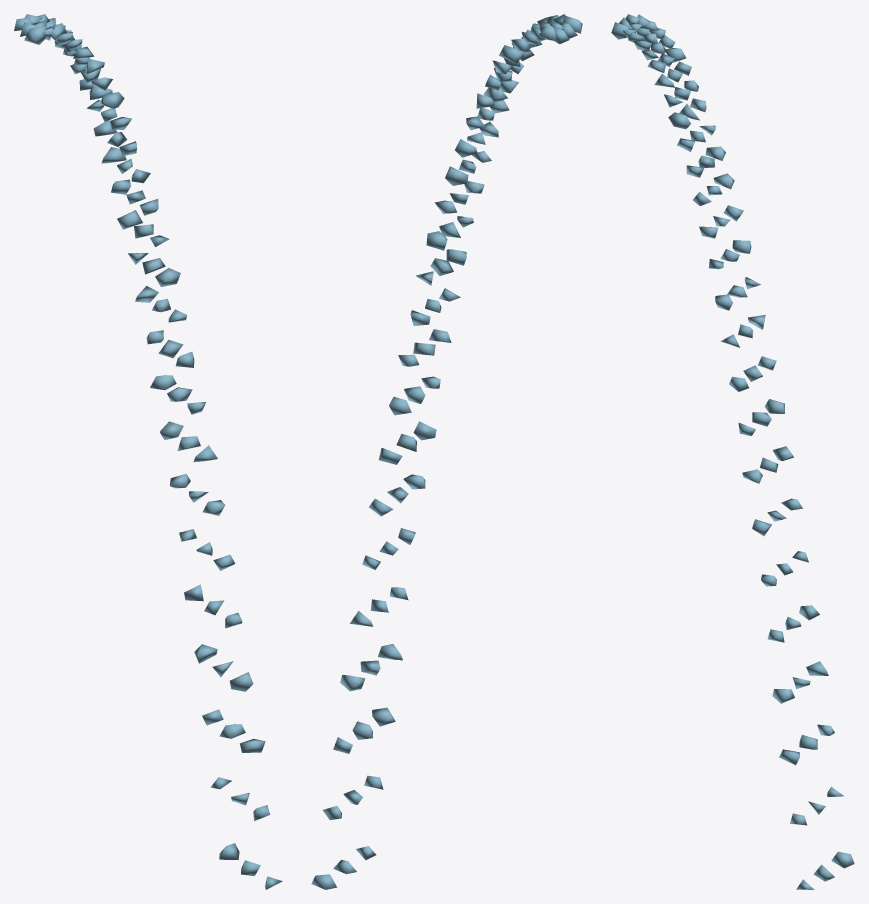
File: dong_nuoc.glb
The picture shows the model from 3 angles, left to right: view 1: azimuth 30°, elevation 25°; view 2: azimuth 150°, elevation 25°; view 3: azimuth 330°, elevation 25°; orthographic projection. The views are drawn at different scales.
Parts seen in each view (by area): view 1: dong_nuoc; view 2: dong_nuoc; view 3: dong_nuoc.
Boxes of the visible parts, x1,y1,x2,y2 form: dong_nuoc: (14,14,282,889); dong_nuoc: (311,14,582,889); dong_nuoc: (611,14,854,889).
Size of the model in its own units: 0.2428 by 0.8658 by 0.085.
